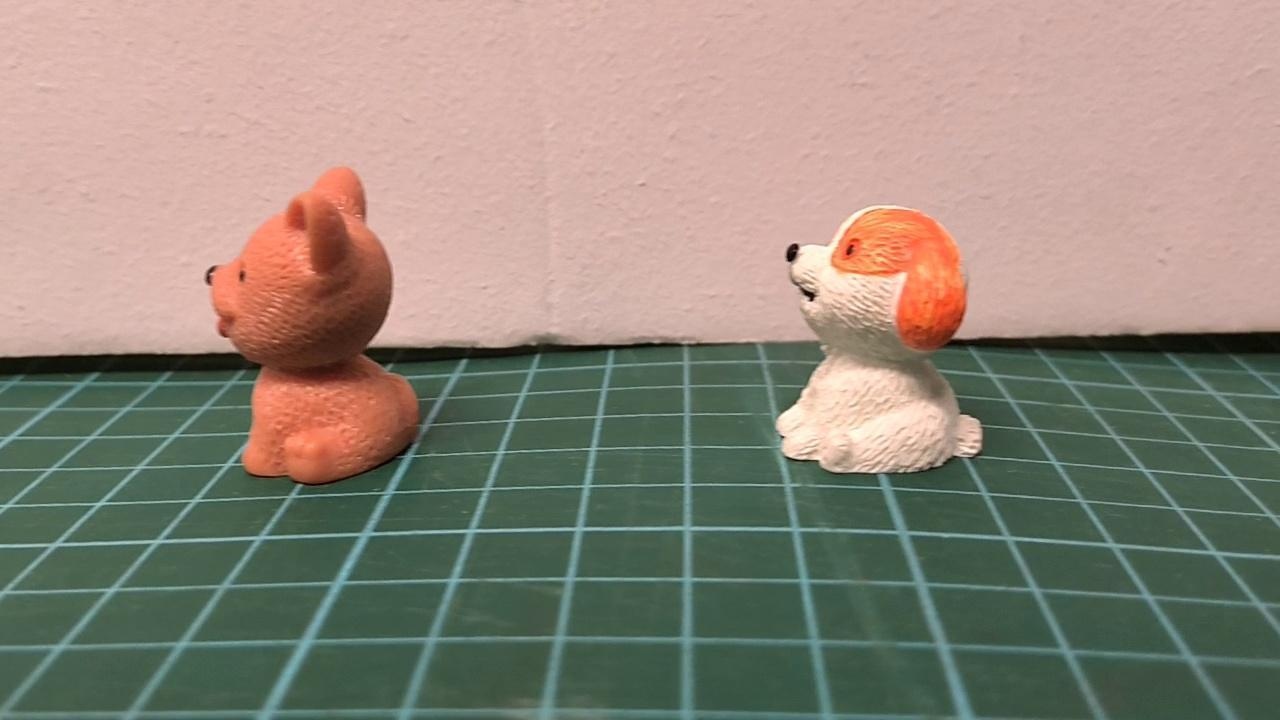pet: (197, 161, 423, 490), (770, 205, 988, 477)
